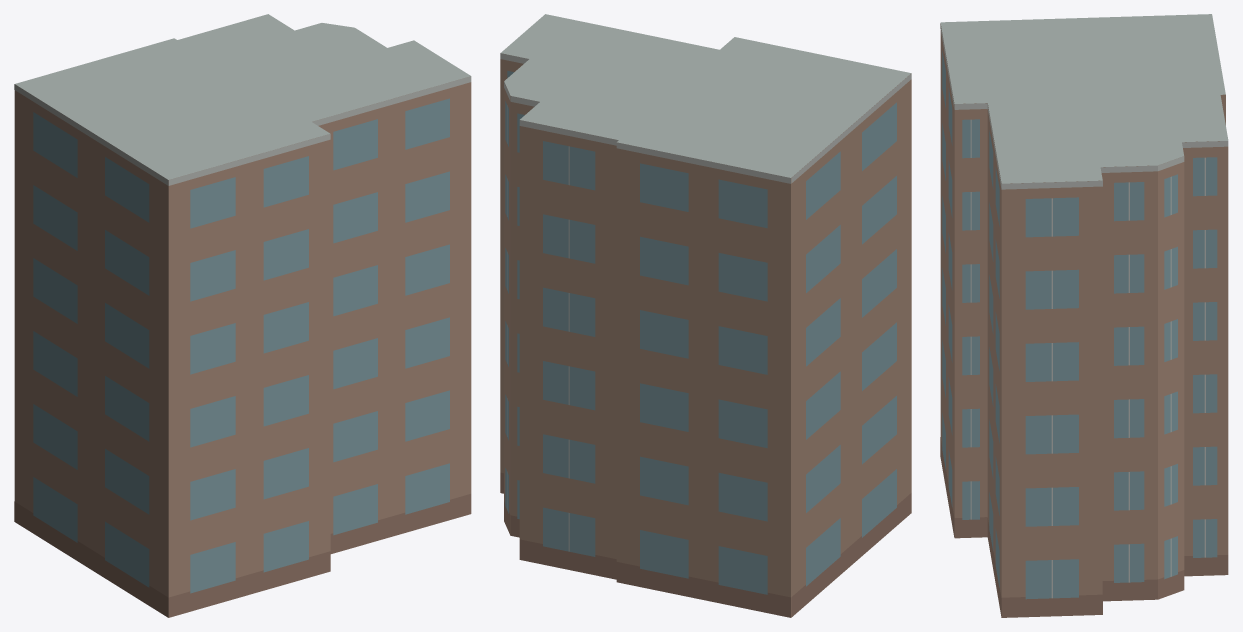
Rendered from survey-upis-32871712.glb.
The picture shows the model from 3 angles, left to right: view 1: azimuth 30°, elevation 25°; view 2: azimuth 150°, elevation 25°; view 3: azimuth 270°, elevation 25°; orthographic projection.
Parts seen in each view (by area): view 1: survey-upis-32871712.tmp; view 2: survey-upis-32871712.tmp; view 3: survey-upis-32871712.tmp.
Boxes of the visible parts, box(x1,y1,x2,y2) form: survey-upis-32871712.tmp: box(14, 14, 471, 617); survey-upis-32871712.tmp: box(500, 14, 911, 617); survey-upis-32871712.tmp: box(940, 14, 1228, 617).
Bounding box in the file's own units: 15.1 × 18 × 10.83.
